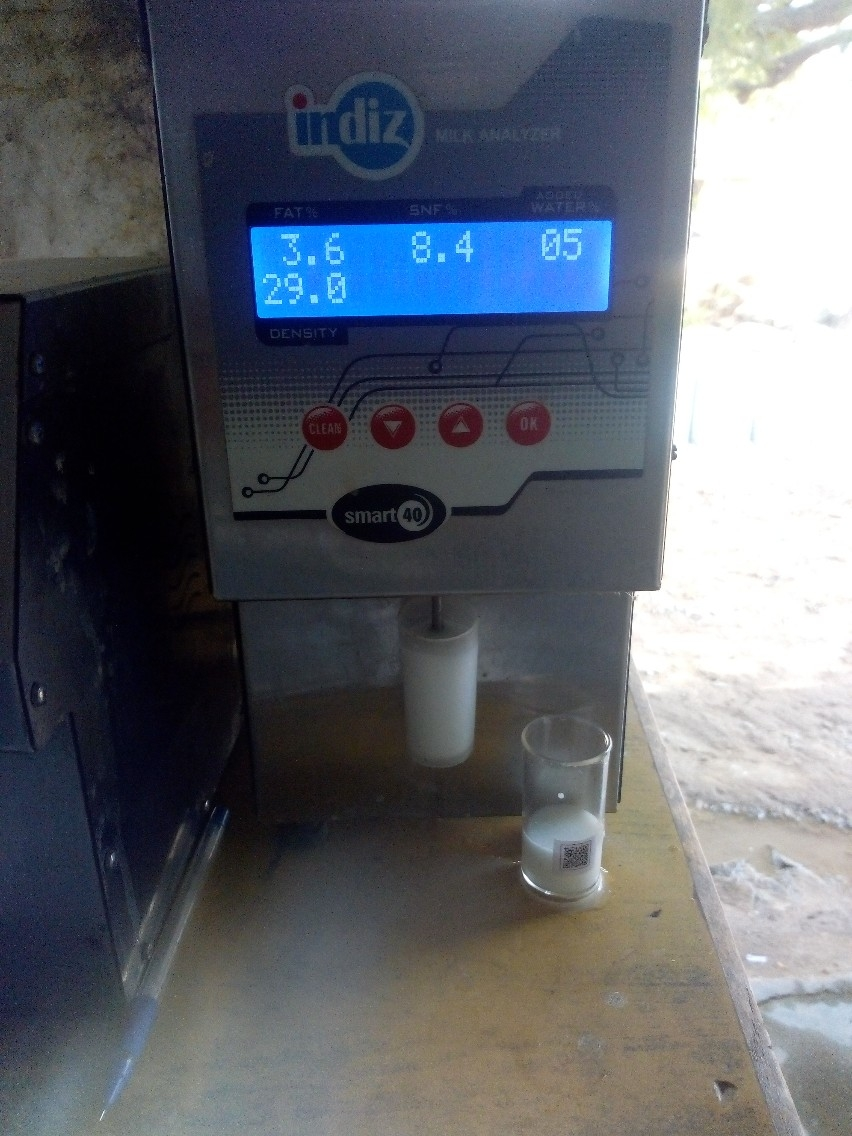lcd: (240, 218, 633, 330)
qr: (547, 838, 604, 878)
